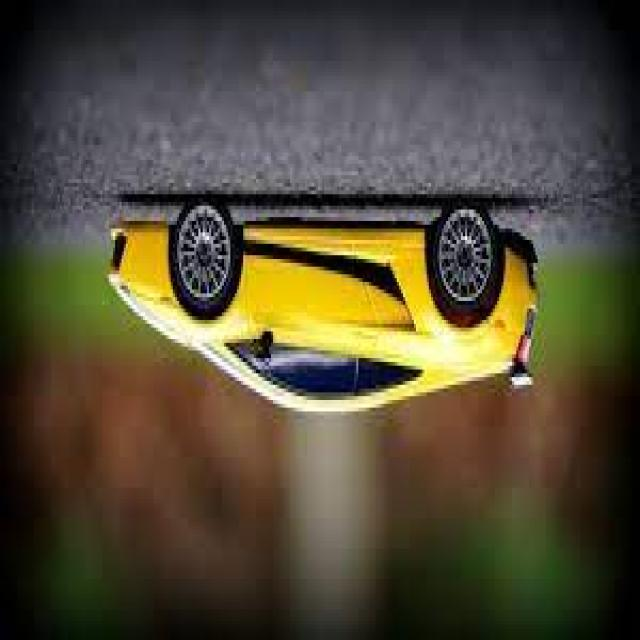Car: (105, 194, 540, 416)
